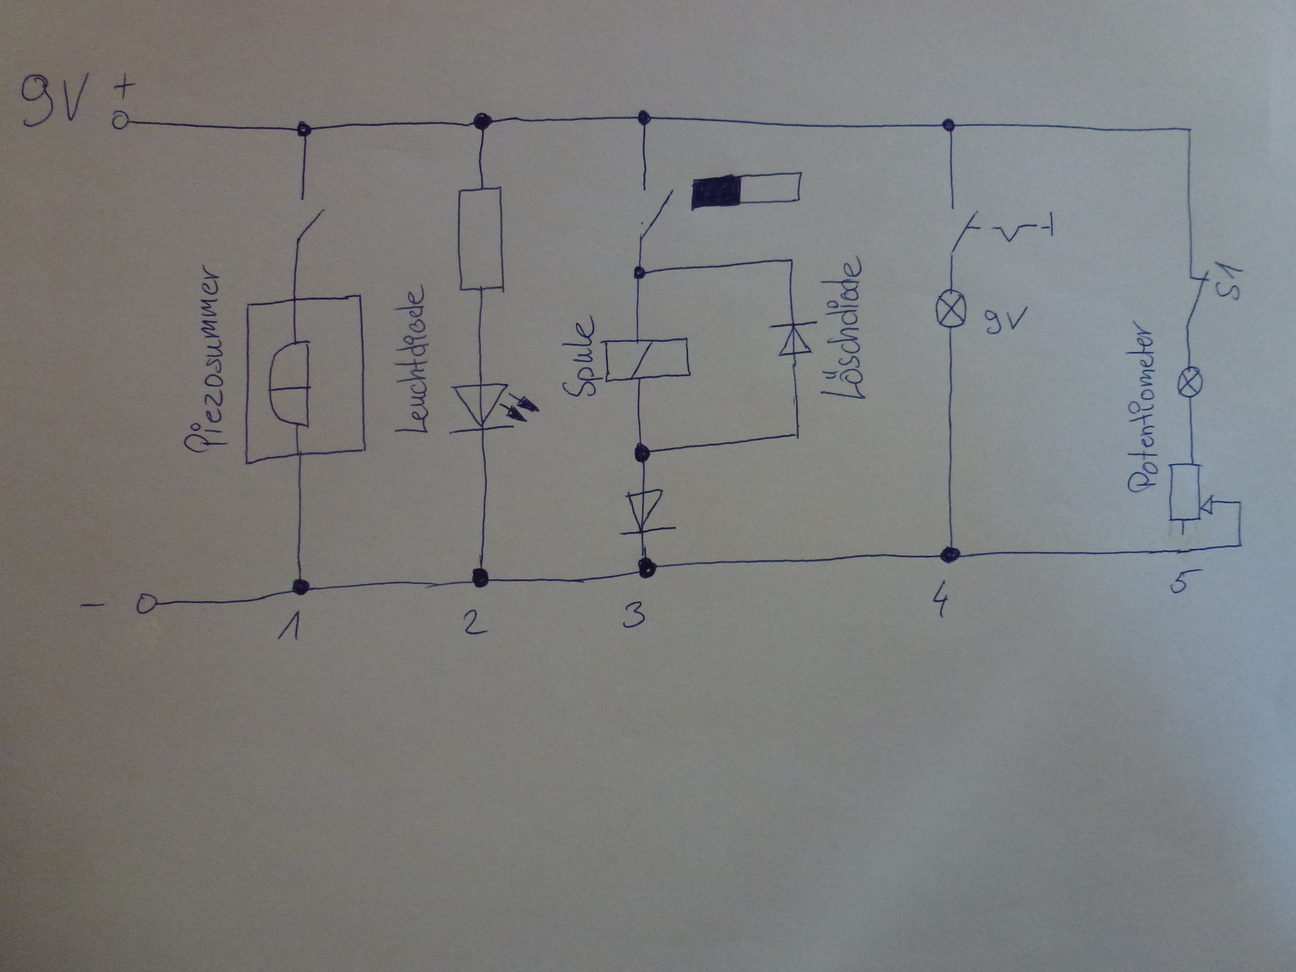diode: (620, 486, 674, 535), (765, 318, 820, 359)
diode.light_emitting: (448, 377, 544, 433)
inductor: (599, 333, 693, 384)
junction: (632, 550, 664, 582), (467, 107, 499, 135), (631, 440, 655, 466), (292, 118, 316, 141), (469, 566, 491, 591), (940, 542, 962, 566), (634, 106, 656, 128), (291, 575, 311, 598), (939, 114, 960, 136), (630, 263, 651, 284), (1181, 121, 1197, 138), (790, 427, 803, 441), (1234, 539, 1246, 552), (785, 254, 797, 265), (1234, 497, 1244, 506)
lamp: (934, 288, 969, 331), (1175, 364, 1205, 401)
resistor: (451, 184, 509, 296)
resistor.adjustable: (1167, 458, 1214, 523)
speaker: (242, 288, 370, 468)
switch: (939, 200, 1064, 257), (630, 181, 680, 246), (289, 188, 332, 248), (1178, 266, 1213, 331)
terminal: (105, 103, 135, 135), (131, 589, 161, 617)
text: (180, 260, 229, 456), (818, 251, 867, 403), (1121, 313, 1160, 489), (12, 66, 109, 134), (394, 275, 432, 437), (562, 312, 596, 401), (983, 304, 1031, 335), (1211, 259, 1245, 300), (1168, 564, 1203, 596), (275, 609, 305, 645), (928, 579, 955, 619), (459, 607, 489, 639), (620, 597, 647, 630)
